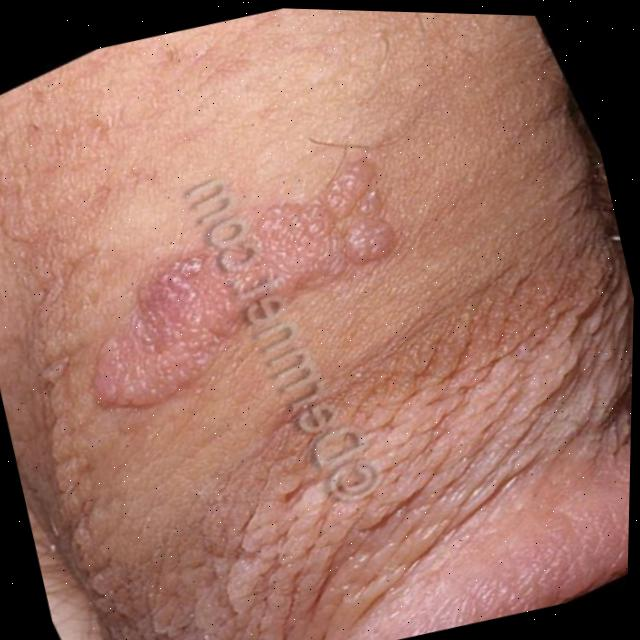Shingles: (31, 157, 426, 449)
